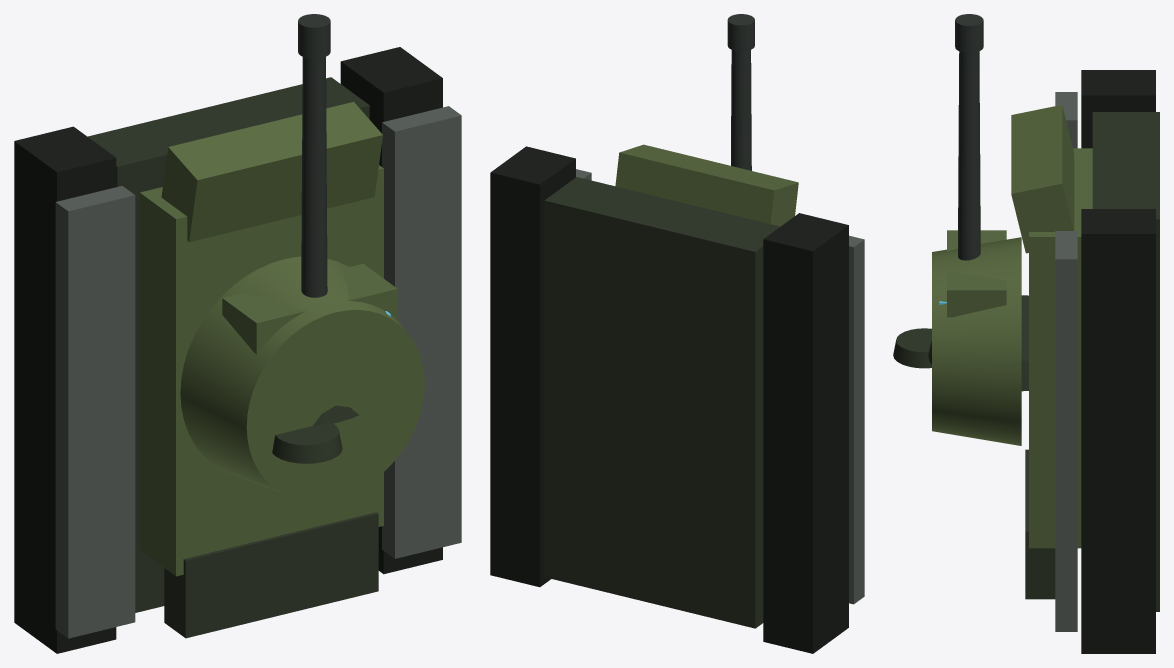
3 renders of one model, left to right at view 1: azimuth 30°, elevation 25°; view 2: azimuth 150°, elevation 25°; view 3: azimuth 270°, elevation 25°, orthographic. The views are drawn at different scales.
Parts seen in each view (by area): view 1: turret_body, hull_upper, left_track_guard, right_track_guard, left_track_body, front_glacis, rear_deck, hull_lower, right_track_body, barrel_tube, turret_front_plate, commander_hatch (+1 smaller); view 2: hull_lower, left_track_body, right_track_body, front_glacis, left_track_guard, barrel_tube, barrel_muzzle; view 3: right_track_body, turret_body, hull_upper, right_track_guard, hull_lower, front_glacis, barrel_tube, left_track_body, turret_front_plate, rear_deck, commander_hatch, barrel_muzzle (+2 smaller).
Part boxes in pixels (x1,y1,x2,y2): turret_body: (180,256,424,501); hull_upper: (139,165,383,576); left_track_guard: (55,186,135,638); right_track_guard: (382,106,461,558); left_track_body: (14,126,116,653); front_glacis: (161,101,382,242); rear_deck: (164,512,378,638); hull_lower: (88,77,369,612); right_track_body: (340,47,442,574); barrel_tube: (301,57,327,297); turret_front_plate: (222,263,397,354); commander_hatch: (272,423,342,463); hull_lower: (544,177,779,628); left_track_body: (763,213,848,653); right_track_body: (490,146,575,587); front_glacis: (615,144,798,226); left_track_guard: (849,235,864,604); barrel_tube: (731,50,751,170); barrel_muzzle: (727,14,754,51); right_track_body: (1081,209,1155,653); turret_body: (932,237,1021,445); hull_upper: (1029,148,1092,548); right_track_guard: (1055,231,1077,631); hull_lower: (1092,112,1159,611); front_glacis: (1011,105,1074,253); barrel_tube: (958,51,980,260); left_track_body: (1081,70,1155,148); turret_front_plate: (947,230,1006,317); rear_deck: (1025,449,1055,599); commander_hatch: (893,328,931,368); barrel_muzzle: (955,14,983,52).
Size of the model in its own units: 53 by 81.5 by 35.7.
